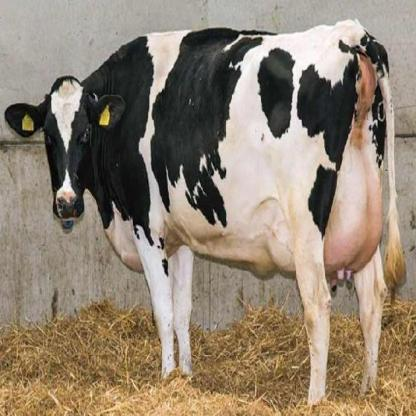cow: (3, 19, 404, 406)
